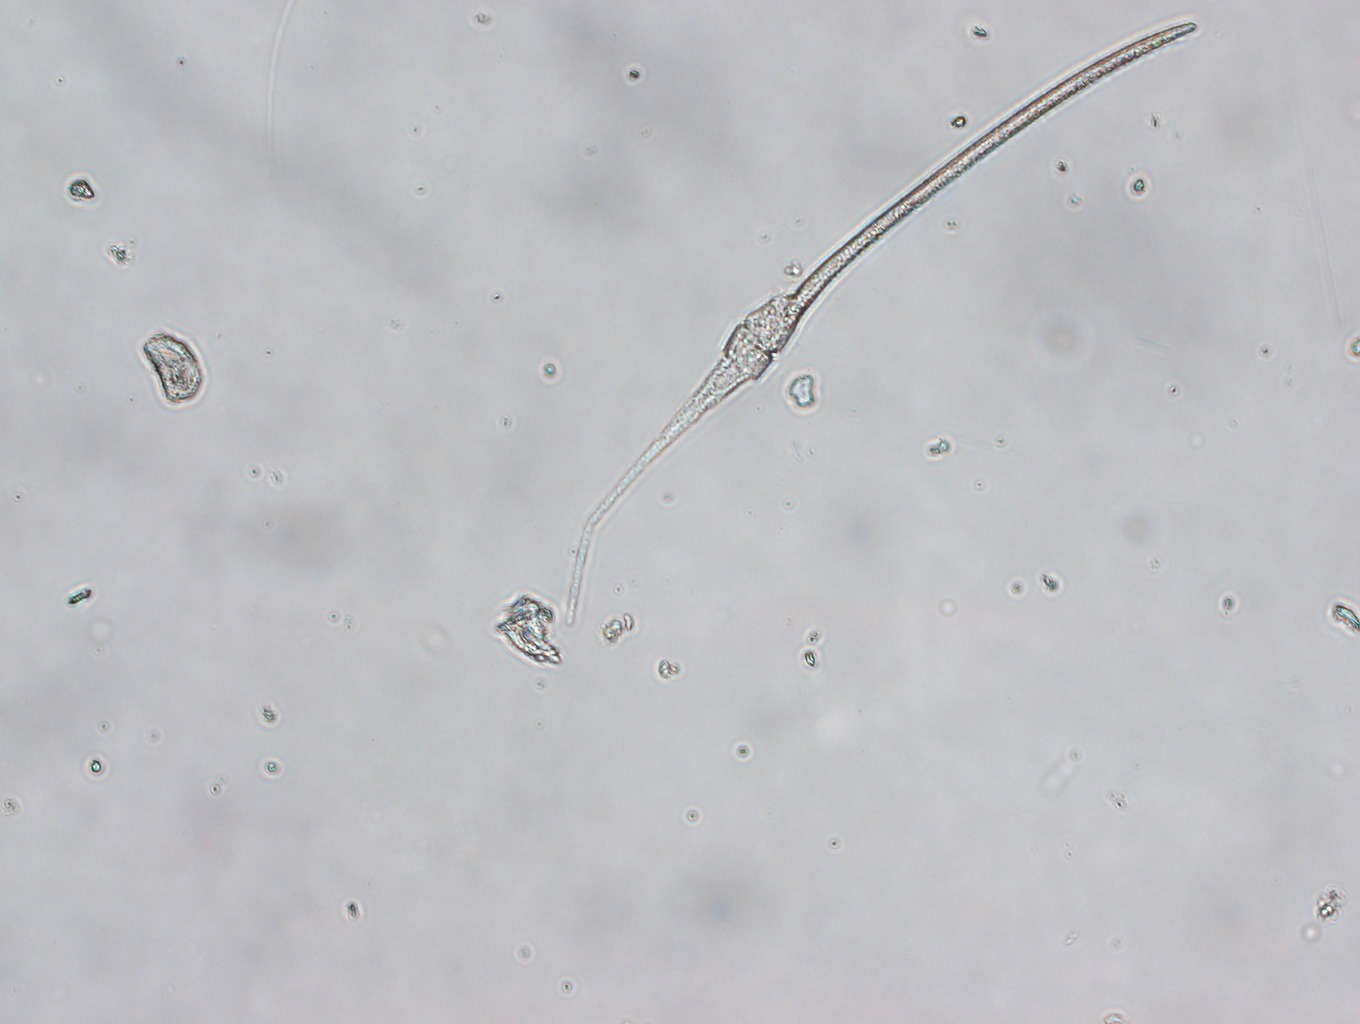ceratium fusus: (560, 17, 1203, 636)
